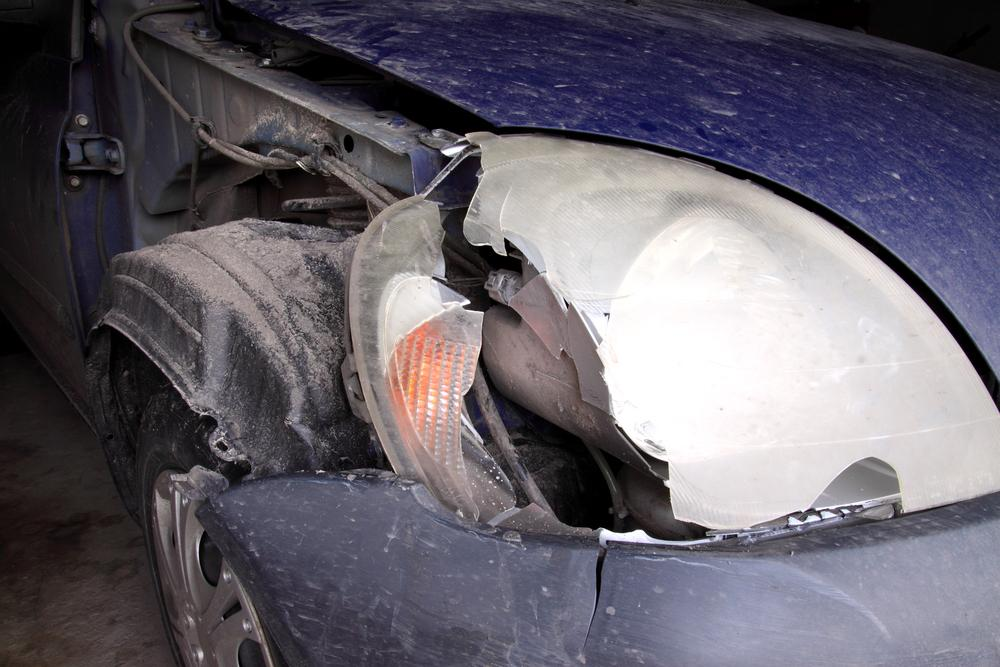crack: (578, 549, 612, 660)
lamp broken: (351, 131, 1000, 550)
